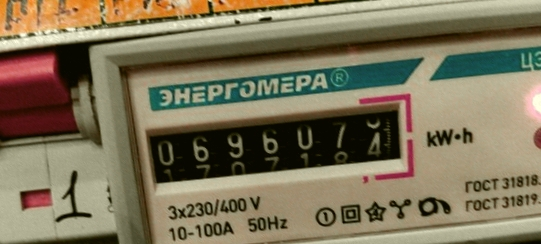0: (153, 135, 176, 166), (293, 118, 315, 150)
4: (362, 127, 383, 157)
6: (187, 130, 212, 162), (259, 123, 280, 153)
7: (328, 116, 348, 147)
9: (224, 128, 245, 158)
screen: (127, 84, 419, 201)
